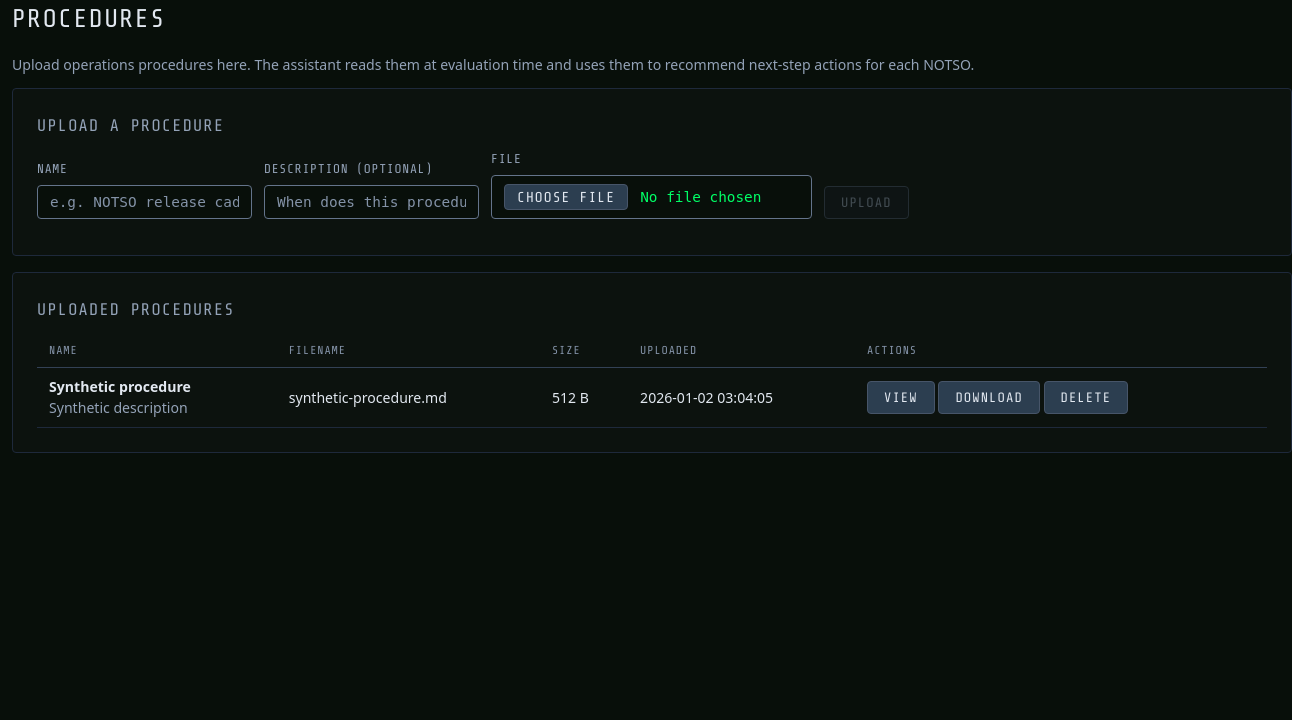
Test: the procedures page › shows why a delete failed, or that it failed
Click the button "Delete" at (1086, 397), box 1044,381 -> 1128,414
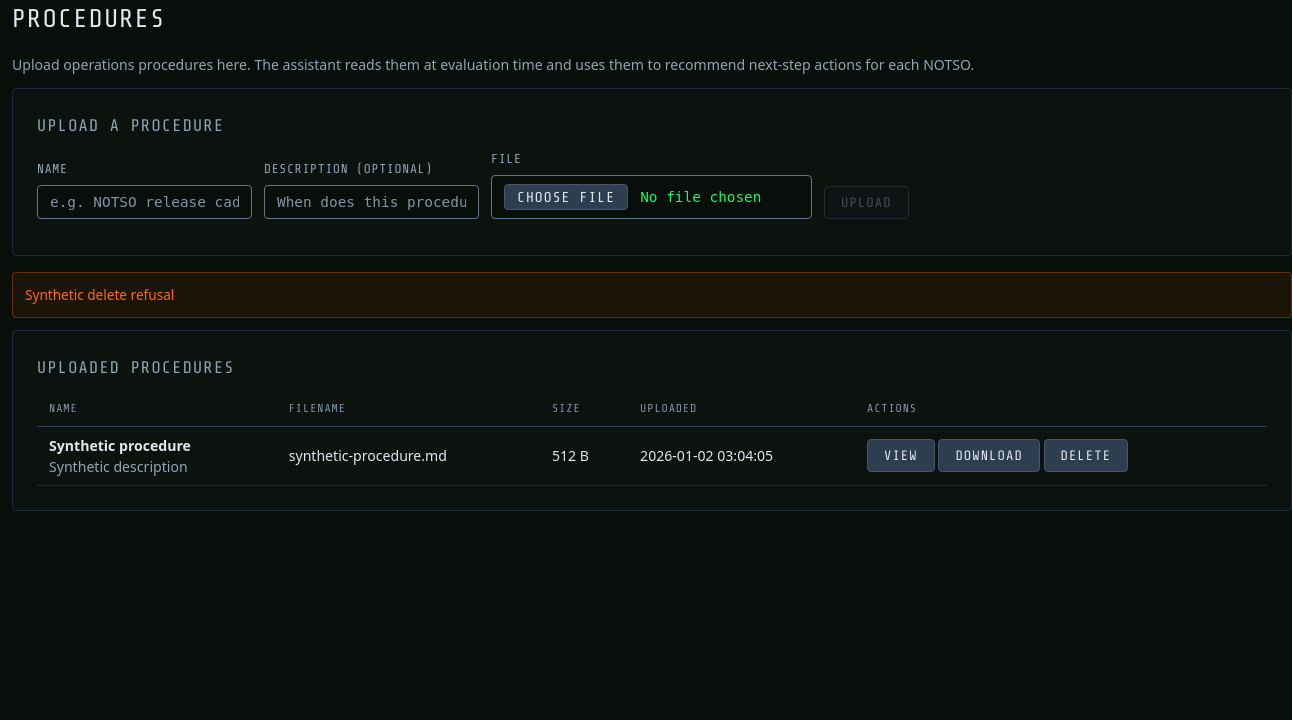
Result: the text "Synthetic delete refusal" is shown at 12,272 -> 1291,318
Click the button "Delete" at (1086, 456), box 1044,439 -> 1128,472
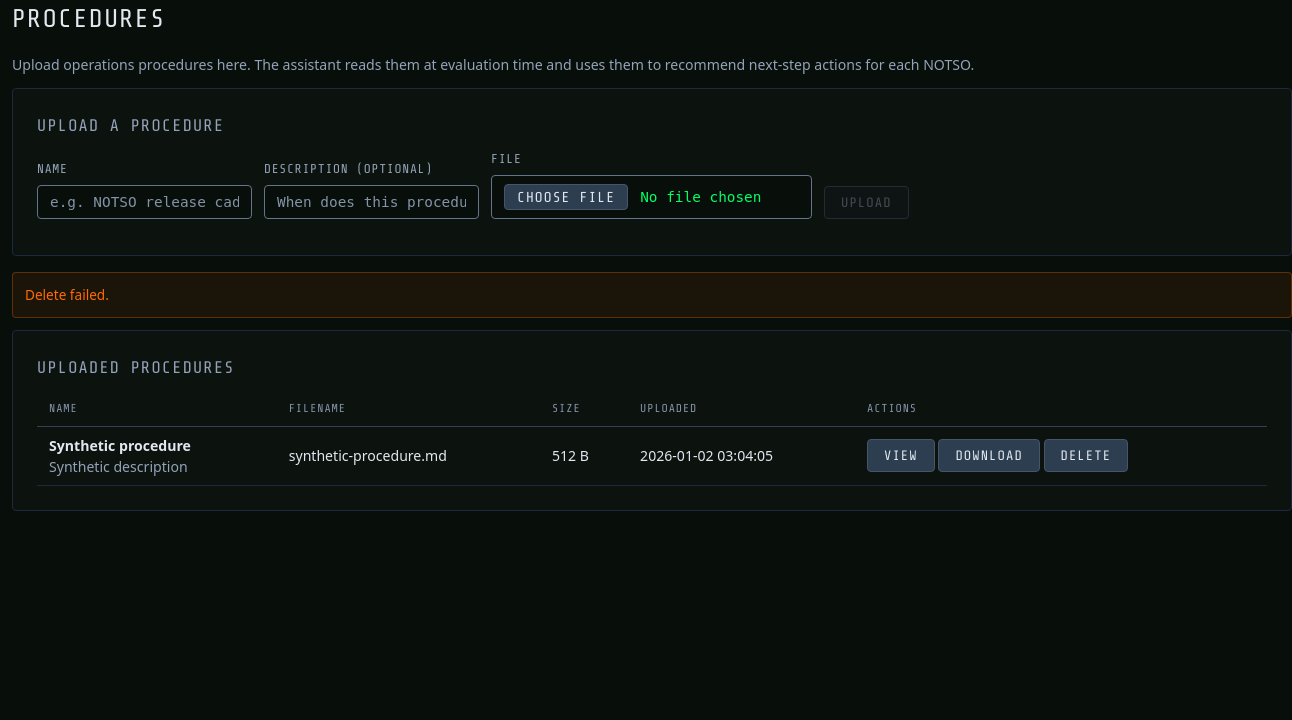
Result: the text "Delete failed." is shown at 12,272 -> 1291,318
